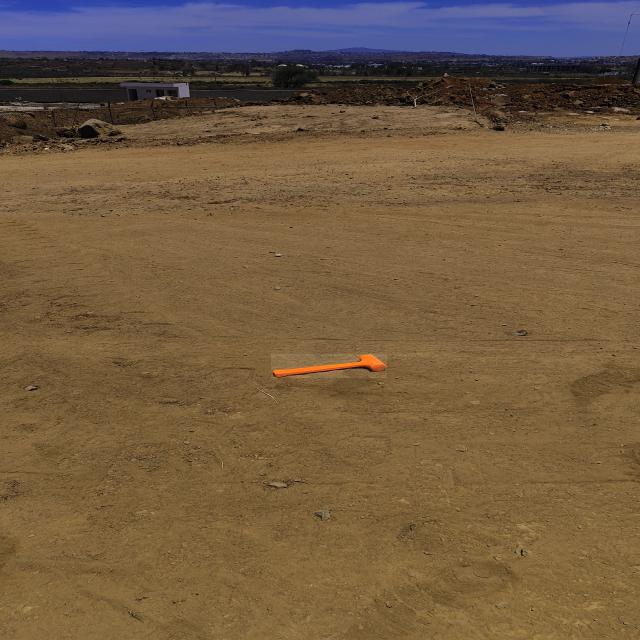Orange_hammer: (272, 354, 388, 378)
